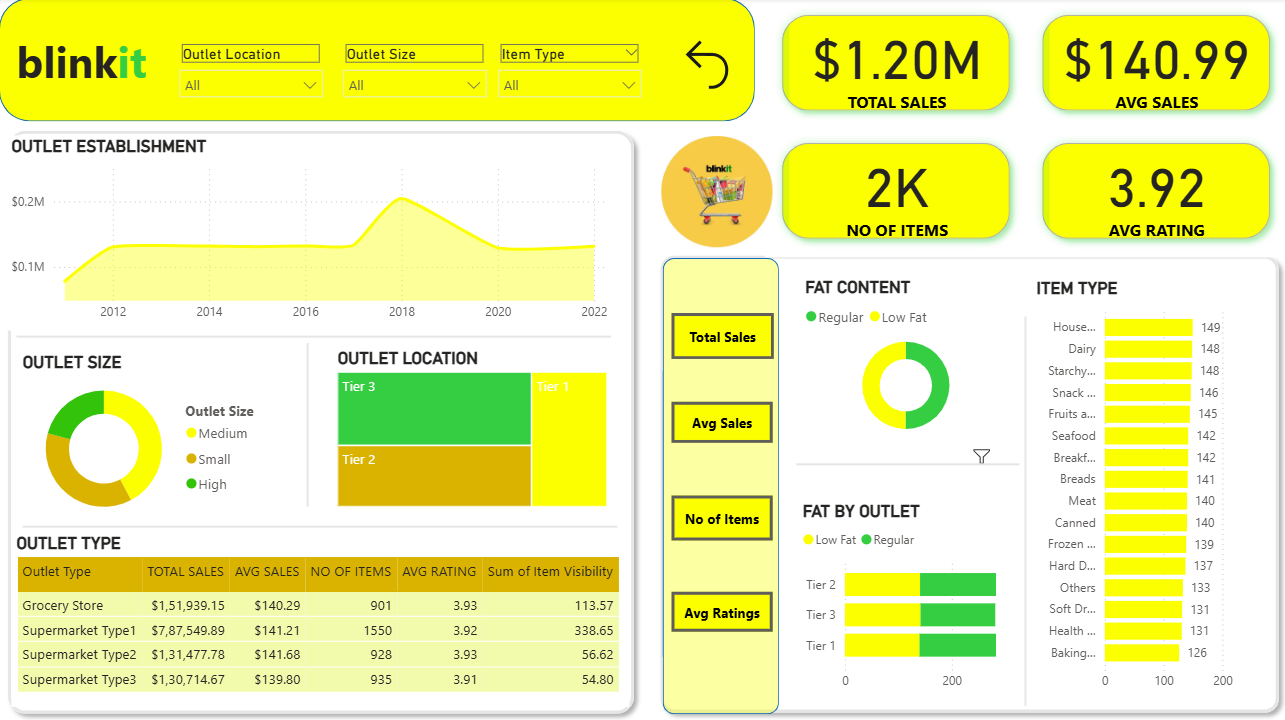

What the dashboard file says about the page in this screenshot:
{"tool":"powerbi","page":{"name":"D","canvas":[1280,720],"ordinal":0},"visuals":[{"type":"shape","box":[647.8,247.3,631.9,471.4],"z":500},{"type":"slicer","fields":{"Values":["Metrics.Metrics"]},"box":[946.1,438.3,59.8,34.8],"z":2000},{"type":"shape","box":[0,0,750.6,122.6],"z":3000},{"type":"shape","box":[0,123.5,639.5,596.7],"z":4000},{"type":"cardVisual","title":"KPI CARDS","fields":{"Data":["Merge1.Total Sales","Merge1.AVG SALES","Merge1.NO OF ITEMS","Merge1.AVG RATING"]},"box":[761.2,0,518.8,258],"z":5000},{"type":"donutChart","title":"FAT CONTENT","fields":{"Category":["Merge1.Item Fat Content"],"Y":["Metrics.Selected Metric"]},"box":[795.8,276.9,210.1,167],"z":6000},{"type":"shape","title":"VERTICAL LINE","box":[791.7,456.3,221.2,12.5],"z":7000},{"type":"barChart","title":"FAT BY OUTLET","fields":{"Category":["Merge1.Outlet Location"],"Series":["Merge1.Item Fat Content"],"Y":["Metrics.Selected Metric"]},"box":[793,499.5,221.2,197.6],"z":8000},{"type":"clusteredBarChart","title":"ITEM TYPE","fields":{"Category":["Merge1.Item Type"],"Y":["Metrics.Selected Metric"]},"box":[1025.4,278.3,240.7,418.8],"z":9000},{"type":"textbox","title":"BLINKIT","box":[12.2,28.1,149.2,68.5],"z":10000},{"type":"shape","title":"VERTICAL LINE","box":[1013.5,316.4,12.8,386.3],"z":11000},{"type":"areaChart","title":"OUTLET ESTABLISHMENT","fields":{"Category":["Merge1.Establishment Year"],"Y":["Merge1.TOTAL SALES"]},"box":[7.3,137,601.6,193.2],"z":12000},{"type":"donutChart","title":"OUTLET SIZE","fields":{"Category":["Merge1.Outlet Size"],"Y":["Merge1.TOTAL SALES"]},"box":[18.3,351,254.3,173.6],"z":13000},{"type":"treemap","title":"OUTLET LOCATION","fields":{"Group":["Merge1.Outlet Location"],"Values":["Merge1.TOTAL SALES"]},"box":[331.4,347.3,277.6,162.6],"z":14000},{"type":"tableEx","title":"OUTLET TYPE","fields":{"Values":["Merge1.Outlet Type","Merge1.TOTAL SALES","Merge1.AVG SALES","Merge1.NO OF ITEMS","Merge1.AVG RATING","Sum(Merge1.Item Visibility)"]},"box":[12.2,530.7,613.9,172.4],"z":15000},{"type":"shape","title":"VERTICAL LINE","box":[23.2,518.5,590.6,12.2],"z":16000},{"type":"shape","title":"VERTICAL LINE","box":[300.8,342.4,12.2,162.6],"z":17000},{"type":"shape","title":"VERTICAL LINE","box":[17.1,330.2,590.6,12.2],"z":18000},{"type":"slicer","fields":{"Values":["Merge1.Outlet Location"]},"box":[168.8,41.6,162.6,66],"z":19000},{"type":"slicer","fields":{"Values":["Merge1.Outlet Size"]},"box":[331.4,41.6,162.6,66],"z":20000},{"type":"slicer","fields":{"Values":["Merge1.Item Type"]},"box":[485.5,41.6,162.6,66],"z":21000},{"type":"actionButton","box":[672.6,34.2,61.1,62.4],"z":22000},{"type":"group","id":"g1","title":"Group 1","box":[659.1,258.2,115.4,453.1],"z":23000},{"type":"image","box":[652.9,129.1,120.4,126.6],"z":23001},{"type":"shape","title":"Buttons","box":[659.1,258.2,115.4,453.1],"z":24500,"group":"g1"},{"type":"actionButton","title":"No of Items","box":[667.7,494.4,100.5,44.7],"z":25000,"group":"g1"},{"type":"actionButton","title":"Avg Rating","box":[667.6,589.6,100.5,39.7],"z":26000,"group":"g1"},{"type":"actionButton","title":"Total Sales","box":[667.6,312.3,101.8,45.9],"z":26250,"group":"g1"},{"type":"actionButton","title":"Avg Sales","box":[668.3,400.7,100.5,41],"z":26500,"group":"g1"}]}

Visuals, with their boxes in screenshot pixels (x1, y1, x2, y2), scaled from the page's 1280x720 canvas onto the 1285x720 screenshot:
shape: <bbox>650, 247, 1284, 719</bbox>
slicer - Metrics.Metrics: <bbox>950, 438, 1010, 473</bbox>
shape: <bbox>0, 0, 754, 123</bbox>
shape: <bbox>0, 124, 642, 719</bbox>
"KPI CARDS" cardVisual: <bbox>764, 0, 1284, 258</bbox>
"FAT CONTENT" donutChart: <bbox>799, 277, 1010, 444</bbox>
"VERTICAL LINE" shape: <bbox>795, 456, 1017, 469</bbox>
"FAT BY OUTLET" barChart: <bbox>796, 500, 1018, 697</bbox>
"ITEM TYPE" clusteredBarChart: <bbox>1029, 278, 1271, 697</bbox>
"BLINKIT" textbox: <bbox>12, 28, 162, 97</bbox>
"VERTICAL LINE" shape: <bbox>1017, 316, 1030, 703</bbox>
"OUTLET ESTABLISHMENT" areaChart: <bbox>7, 137, 611, 330</bbox>
"OUTLET SIZE" donutChart: <bbox>18, 351, 274, 525</bbox>
"OUTLET LOCATION" treemap: <bbox>333, 347, 611, 510</bbox>
"OUTLET TYPE" tableEx: <bbox>12, 531, 629, 703</bbox>
"VERTICAL LINE" shape: <bbox>23, 518, 616, 531</bbox>
"VERTICAL LINE" shape: <bbox>302, 342, 314, 505</bbox>
"VERTICAL LINE" shape: <bbox>17, 330, 610, 342</bbox>
slicer - Merge1.Outlet Location: <bbox>169, 42, 333, 108</bbox>
slicer - Merge1.Outlet Size: <bbox>333, 42, 496, 108</bbox>
slicer - Merge1.Item Type: <bbox>487, 42, 651, 108</bbox>
actionButton: <bbox>675, 34, 737, 97</bbox>
"Group 1" group: <bbox>662, 258, 778, 711</bbox>
image: <bbox>655, 129, 776, 256</bbox>
"Buttons" shape: <bbox>662, 258, 778, 711</bbox>
"No of Items" actionButton: <bbox>670, 494, 771, 539</bbox>
"Avg Rating" actionButton: <bbox>670, 590, 771, 629</bbox>
"Total Sales" actionButton: <bbox>670, 312, 772, 358</bbox>
"Avg Sales" actionButton: <bbox>671, 401, 772, 442</bbox>
